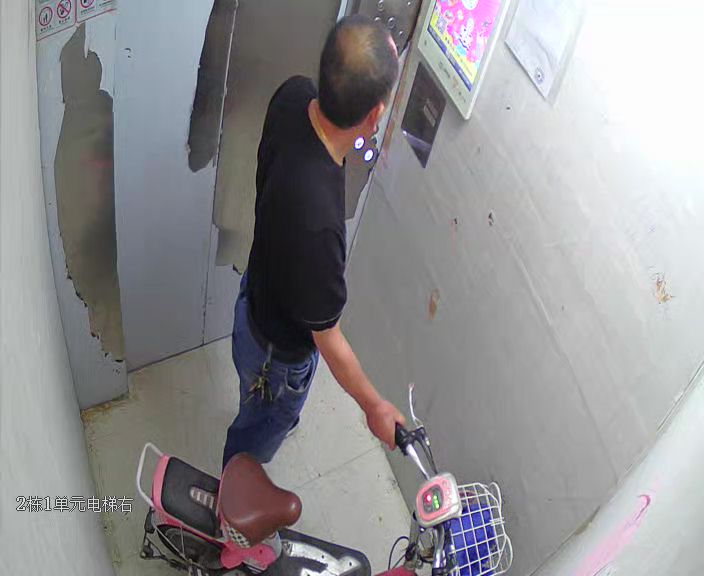Electric-bicycle: (140, 382, 510, 576)
